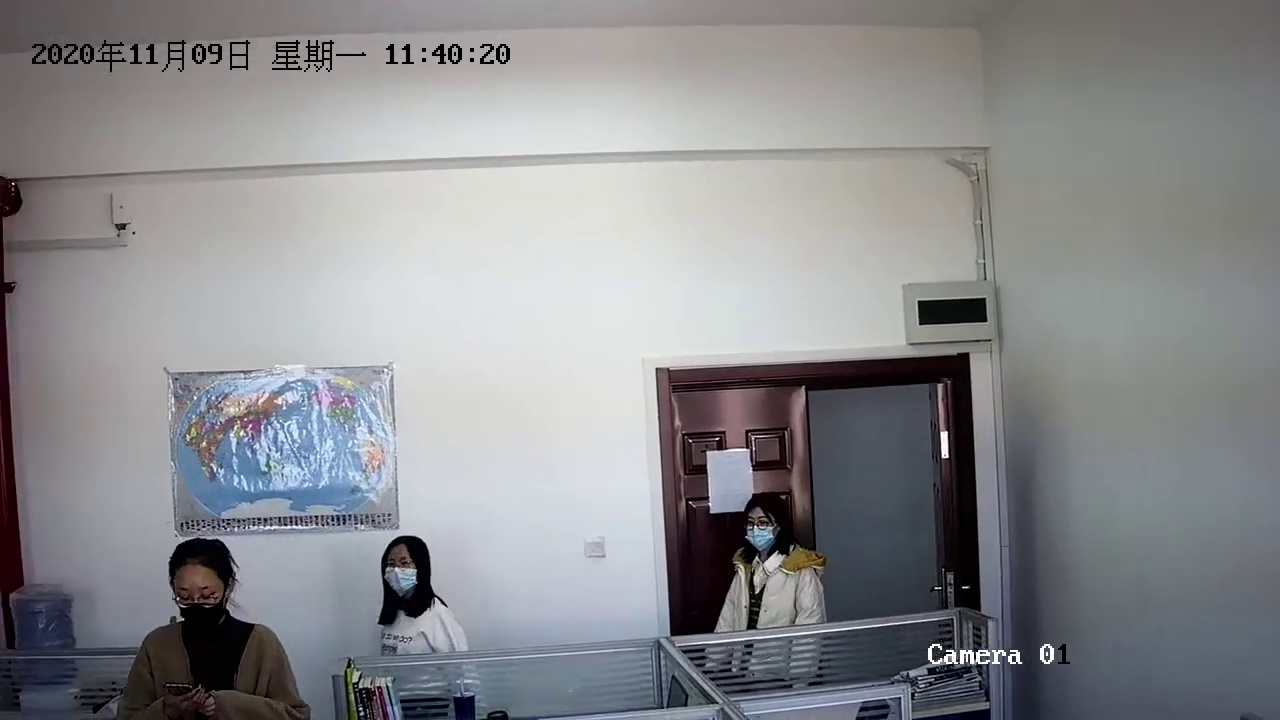mask: (170, 545, 237, 636), (374, 535, 439, 614), (733, 496, 787, 559)
